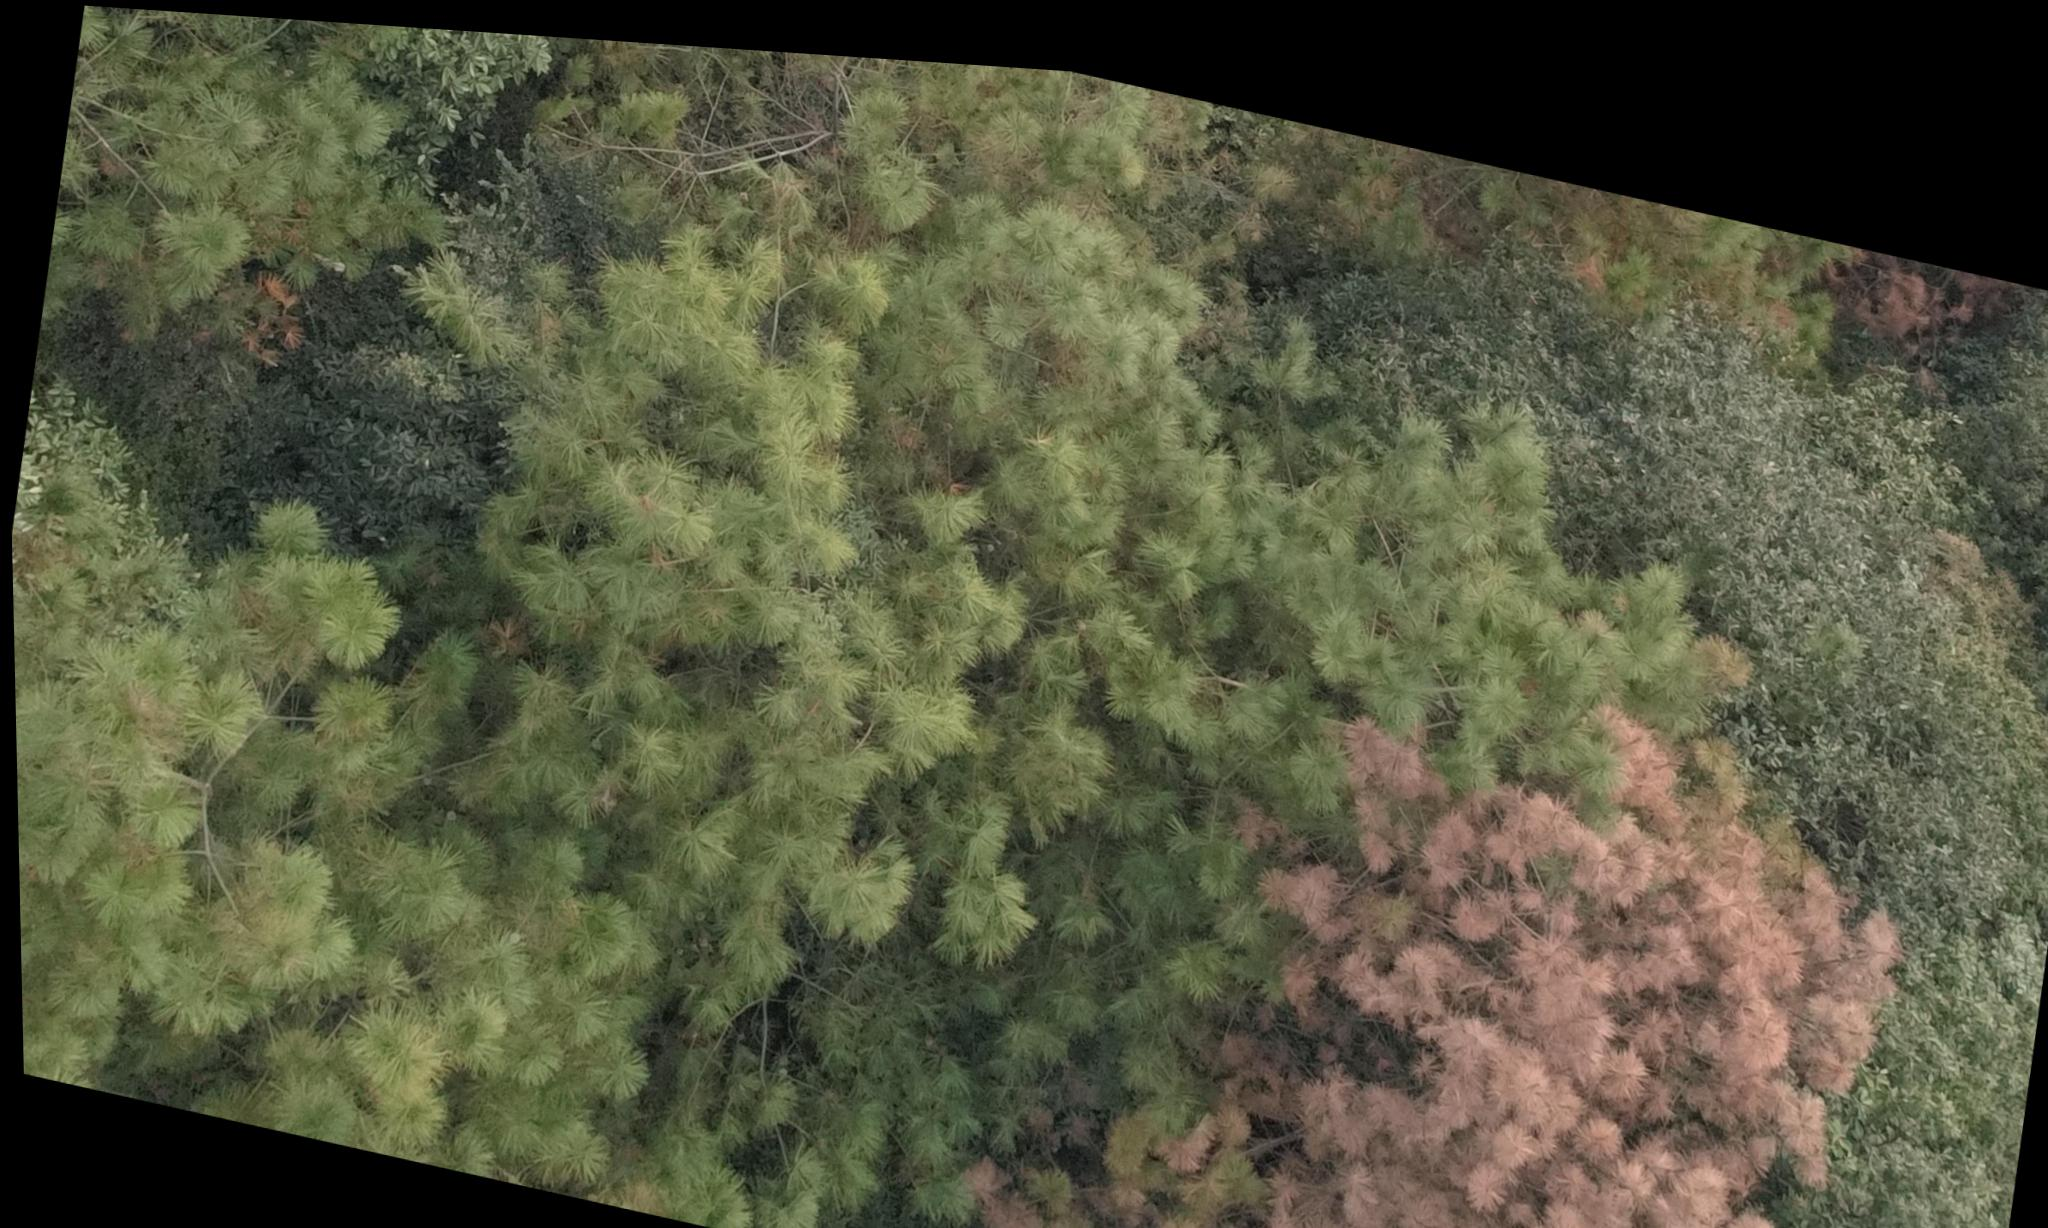heavy: (1092, 651, 1914, 1228)
